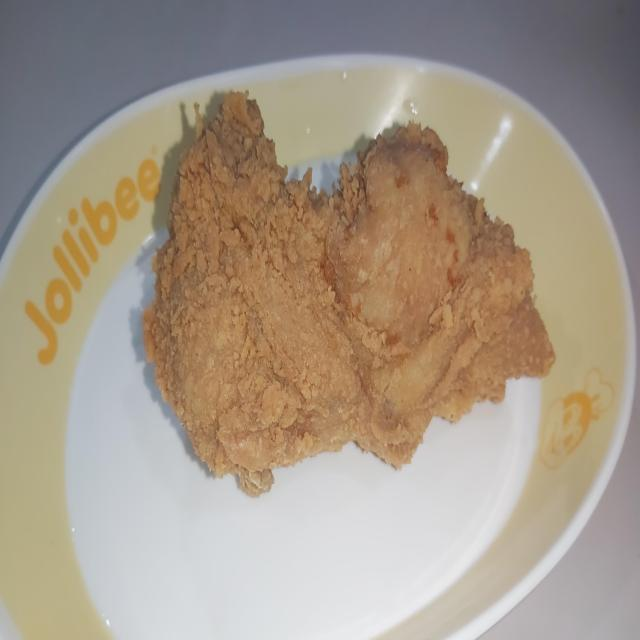Chicken -Fried Chicken-: (148, 95, 566, 468)
